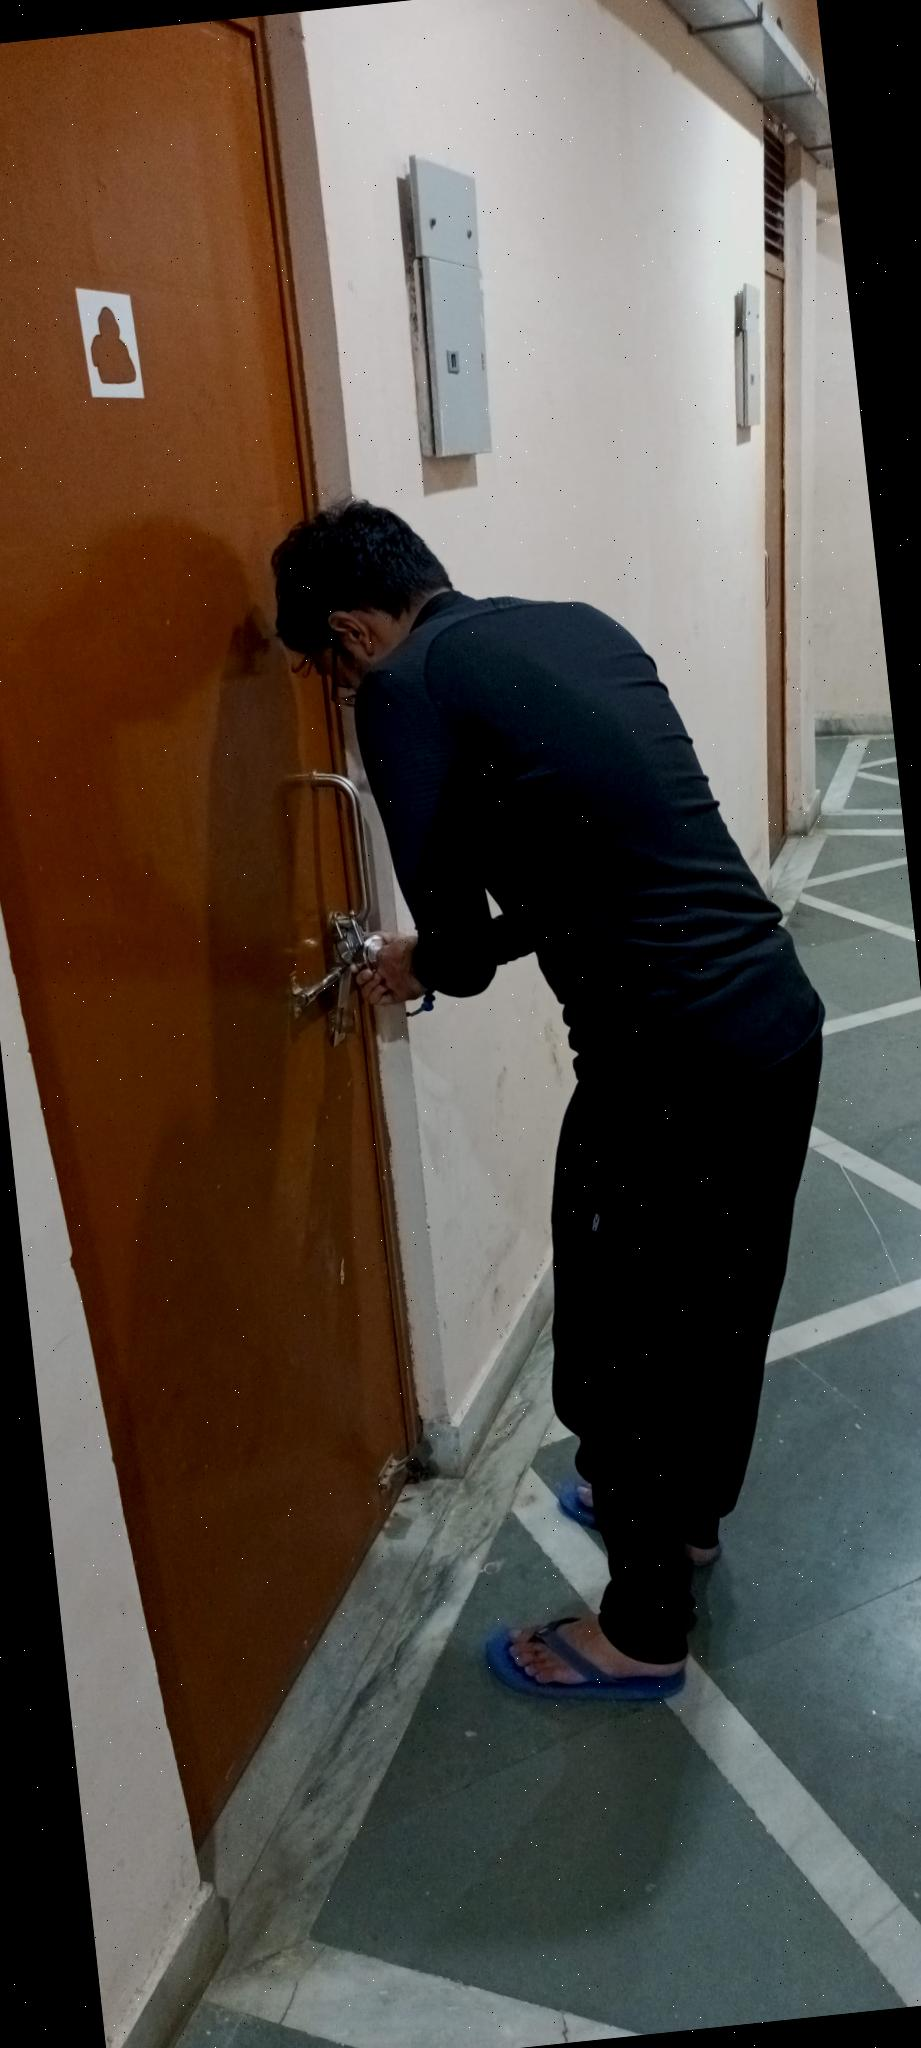suspicion: (162, 392, 918, 1836)
